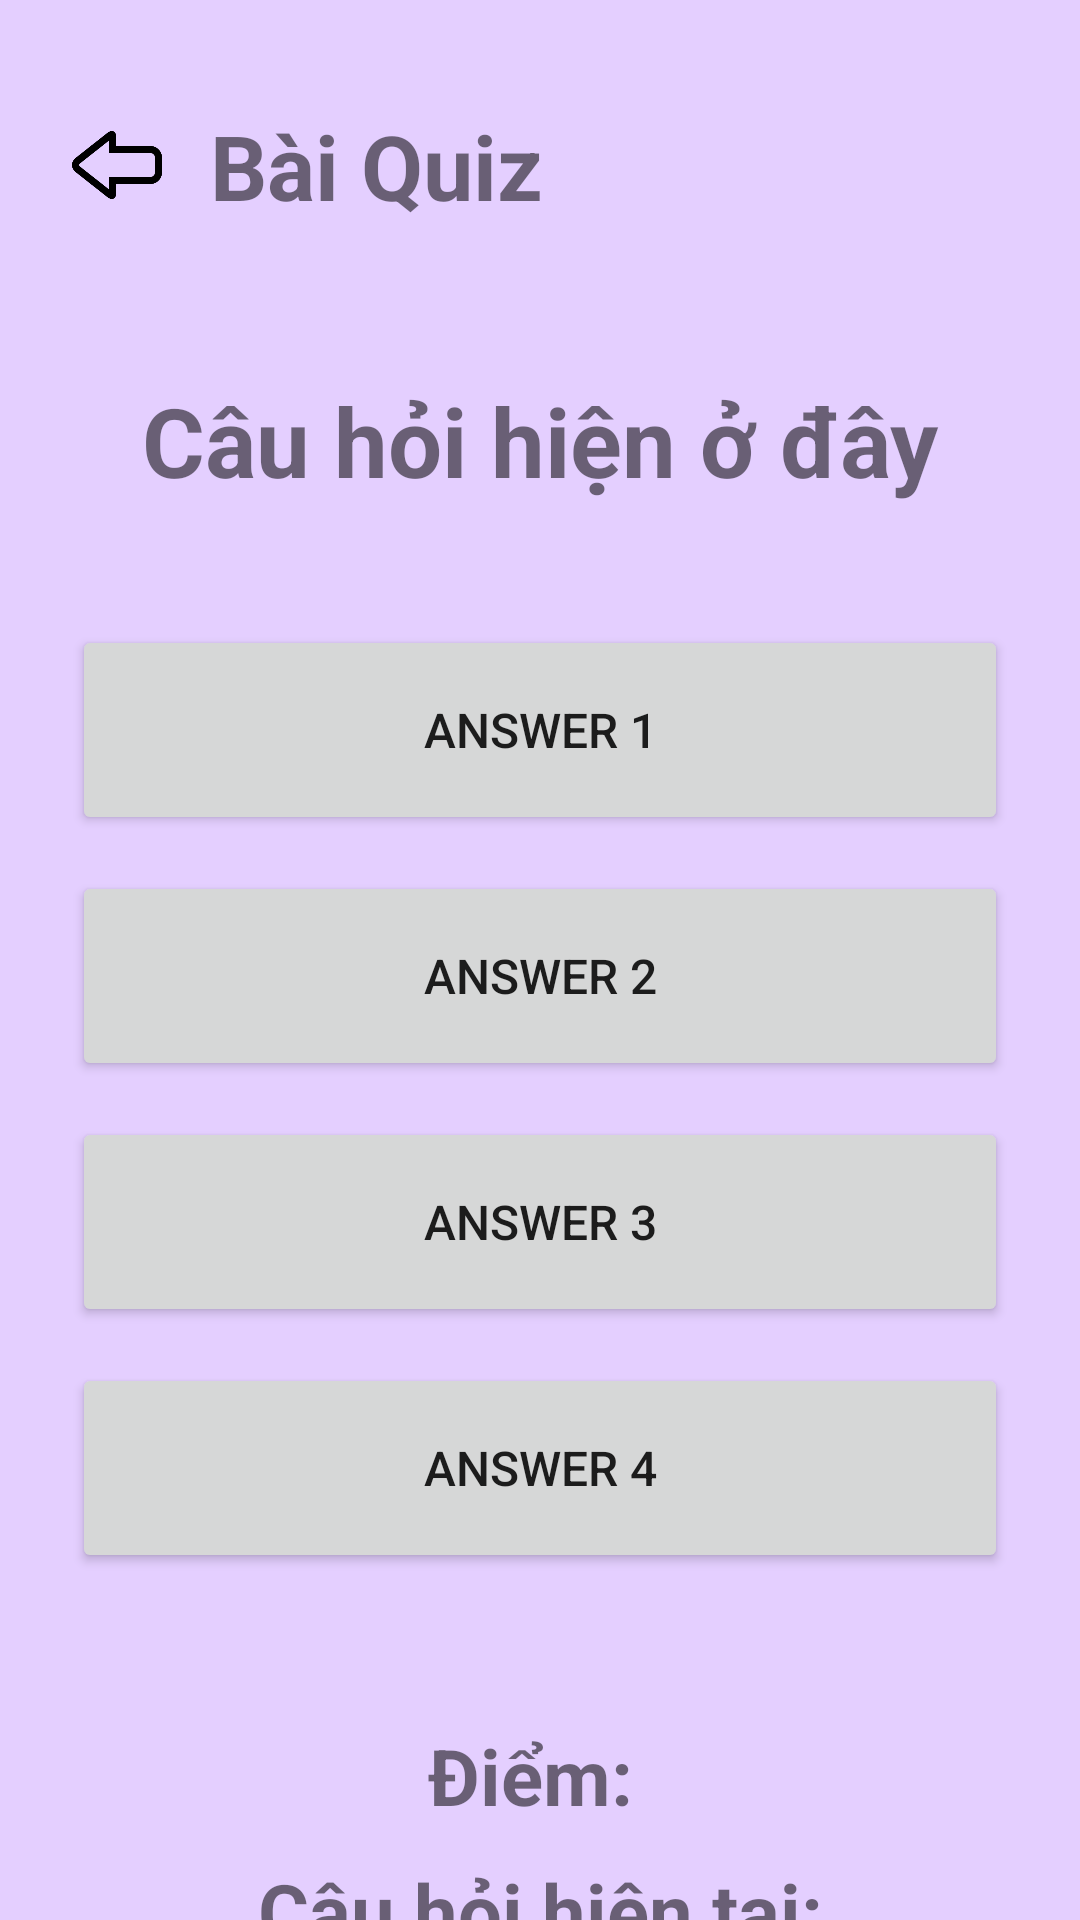

Icon bounding boxes for this 1080 x 1920 phone screenshot, format (x1, y1, x2, y2):
backicon: (72, 131, 162, 199)
